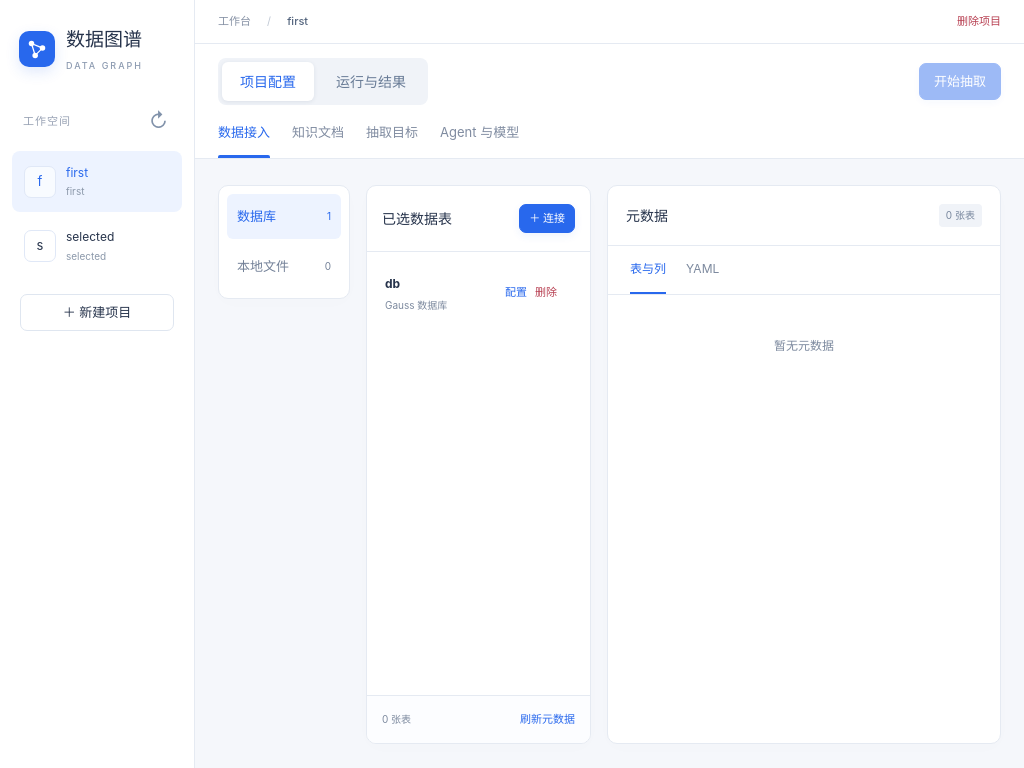
Scenario: 刷新恢复数据库填写窗口 › 从 App 操作中打开真实连接窗口时，父组件 busy 不会跳过草稿加载
Click the button "＋ 连接". click: (547,218)
box: [519, 204, 575, 232]
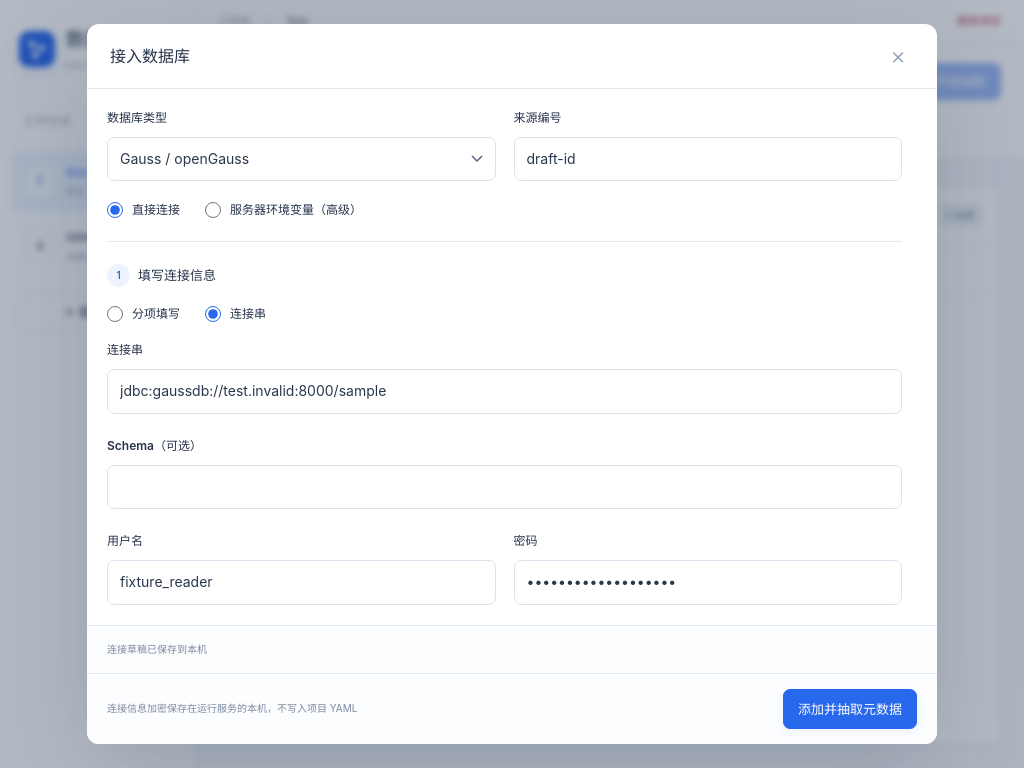
Now the field with id "database-id" is enabled, box [514, 137, 902, 181]
Now the field with id "database-id" holds "draft-id", box [514, 137, 902, 181]
Now the field with id "database-dsn" holds "jdbc:gaussdb://test.invalid:8000/sample", box [107, 369, 902, 414]
